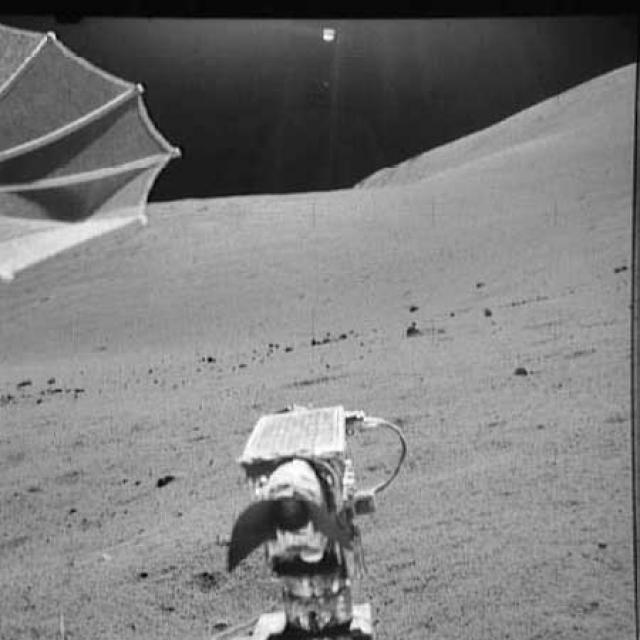artifact: (0, 22, 184, 295), (218, 402, 418, 638)
crater: (267, 366, 355, 390)
rock: (156, 467, 175, 490)
